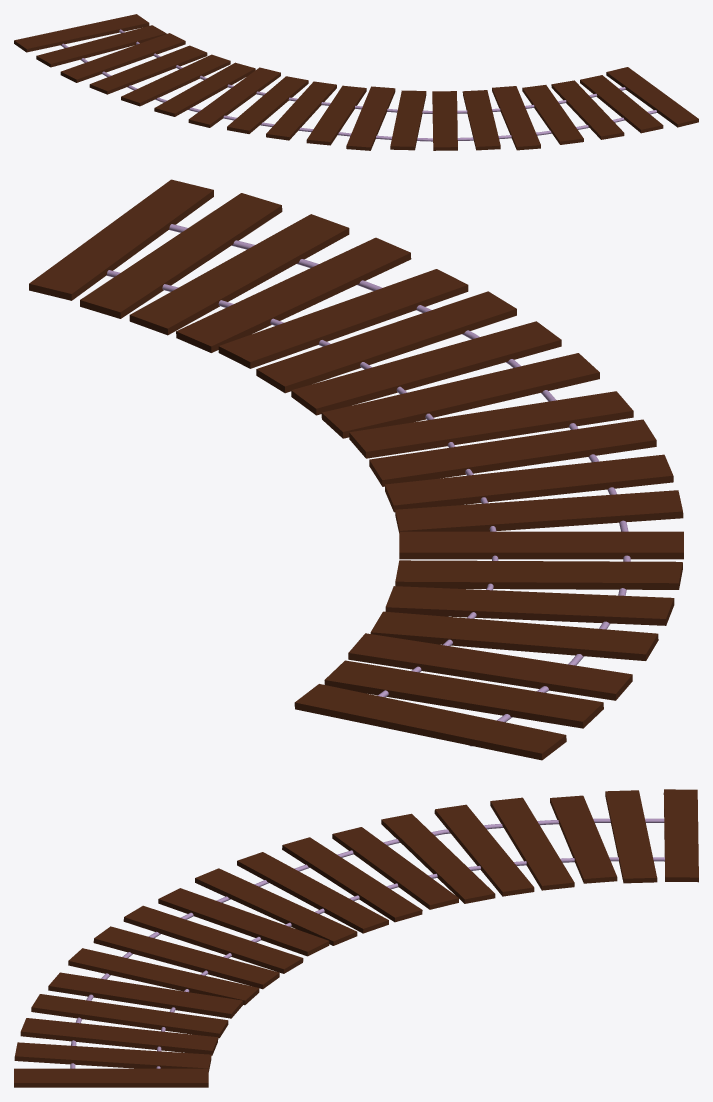
The model's file is curvedBridgeNoRailNoSupport.fbx.
The picture shows the model from 3 angles, top to bottom: view 1: azimuth 30°, elevation 25°; view 2: azimuth 150°, elevation 25°; view 3: azimuth 270°, elevation 25°; orthographic projection. The views are drawn at different scales.
Visible parts, largest first — view 1: Cube.007; view 2: Cube.007; view 3: Cube.007.
Boxes of the visible parts, x1=… form: Cube.007: x1=14, y1=14, x2=698, y2=150; Cube.007: x1=29, y1=179, x2=683, y2=760; Cube.007: x1=14, y1=789, x2=698, y2=1087.
Bounding box in the file's own units: 257 × 4.4 × 256.
